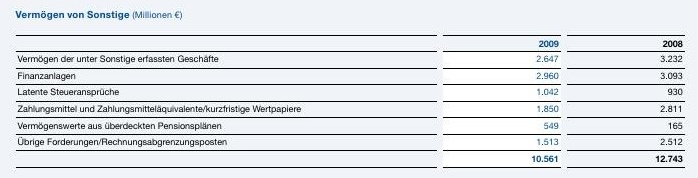table: (0, 0, 698, 178)
